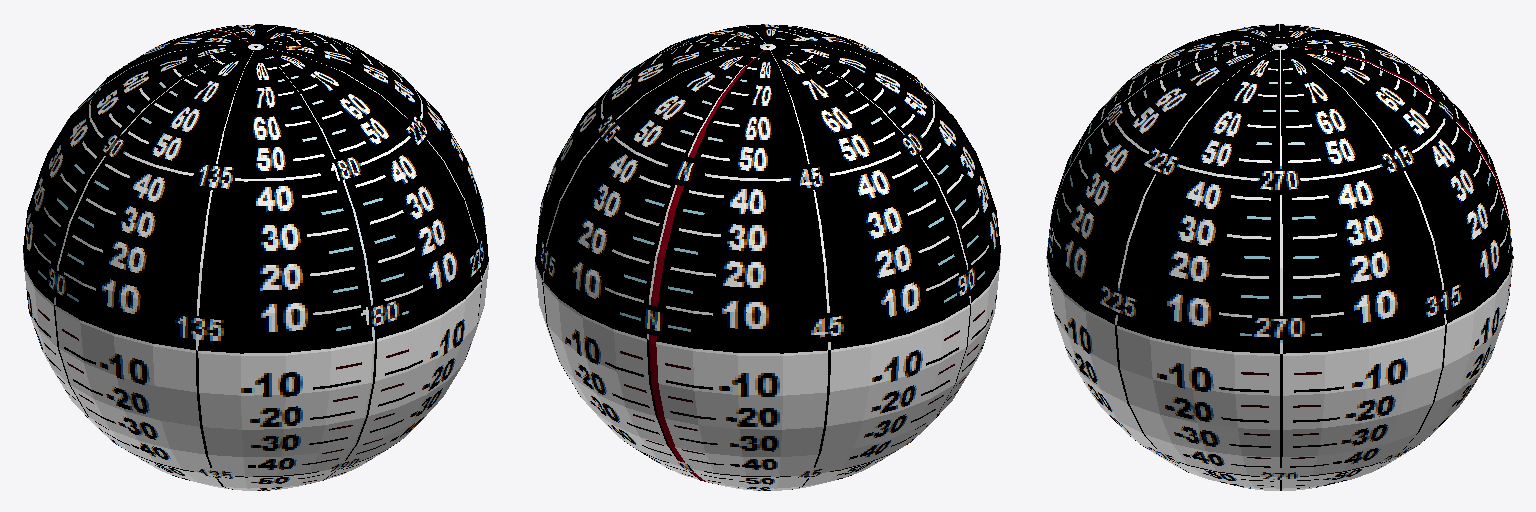
3 renders of one model, left to right at view 1: azimuth 30°, elevation 25°; view 2: azimuth 150°, elevation 25°; view 3: azimuth 270°, elevation 25°, orthographic.
Visible parts, largest first — view 1: Sphere; view 2: Sphere; view 3: Sphere.
Boxes of the visible parts, box(x1,y1,x2,y2) form: Sphere: box(23, 24, 488, 490); Sphere: box(535, 24, 1000, 490); Sphere: box(1046, 24, 1513, 490).
Bounding box in the file's own units: 2 × 1.98 × 2.
1 materials, 1 textured.